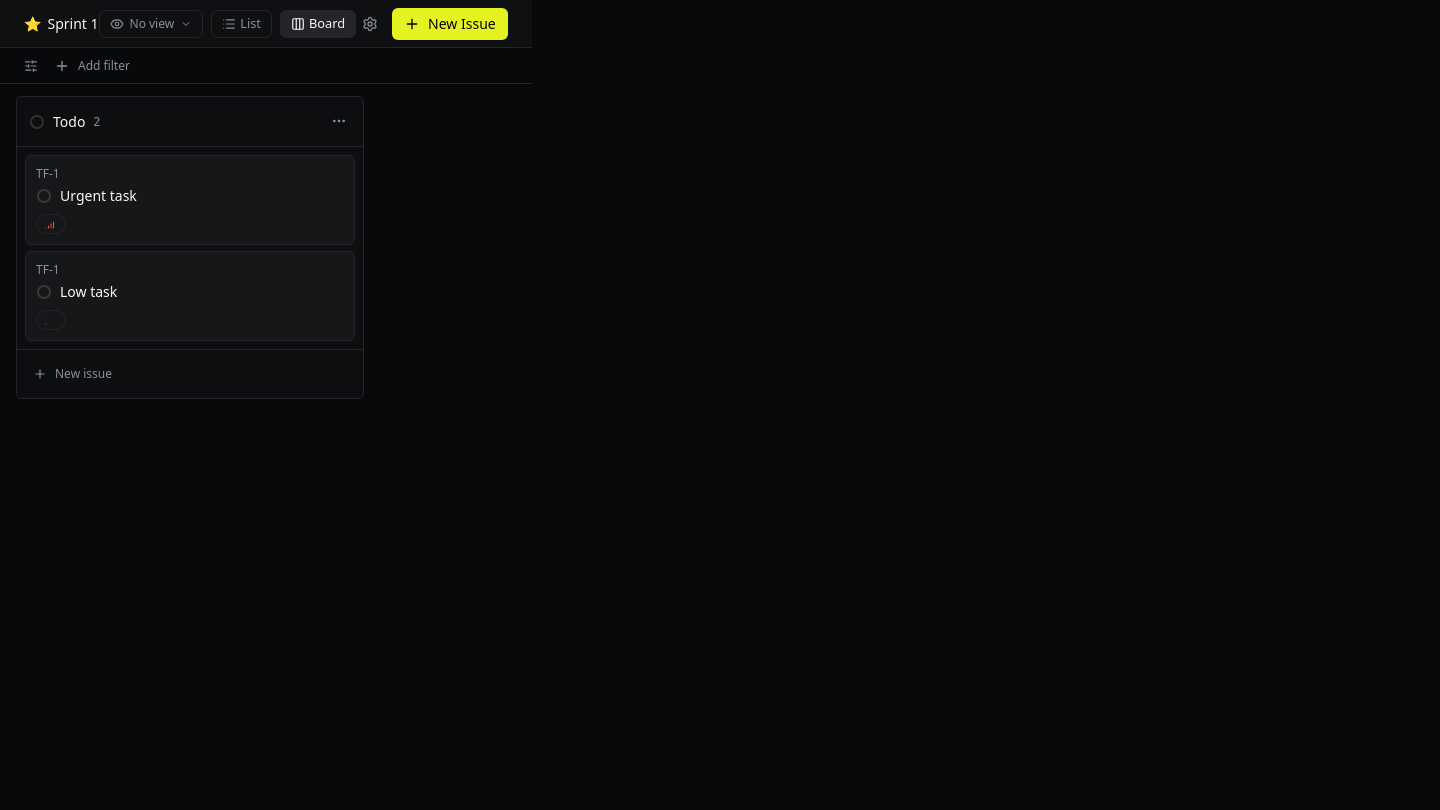
Test: KanbanBoard — save-as-view trigger gating › shows assignee options in the Add filter popover and chips when toggled
The width and height of the screenshot is (1440, 810).
Click the button "Add filter".
click(92, 66)  # box [46,54,138,78]
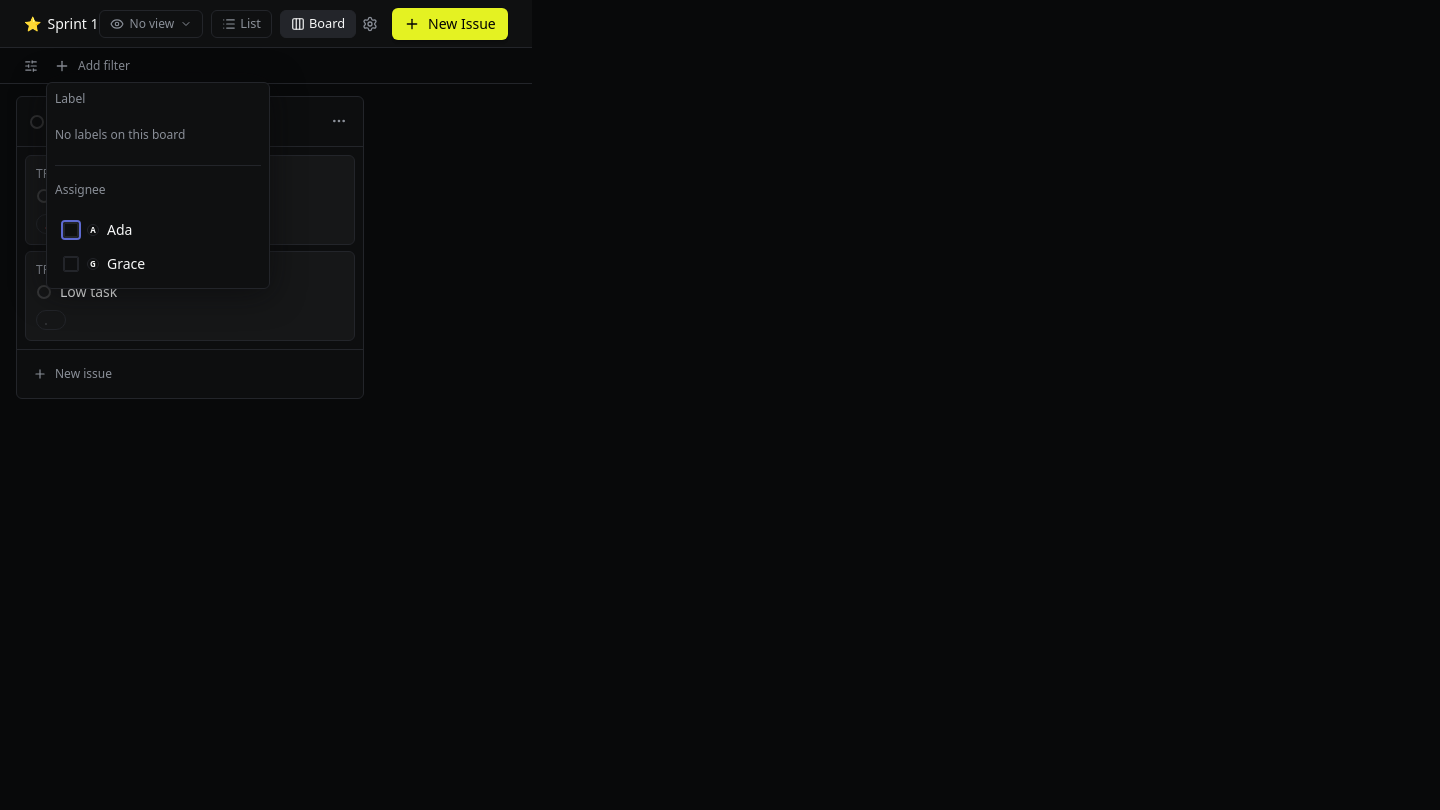
Result: the text "Assignee" is shown at [55,181,106,198]
Click the checkbox named "ada" in the row of "Ada".
click(71, 230)  # box [63,222,79,238]
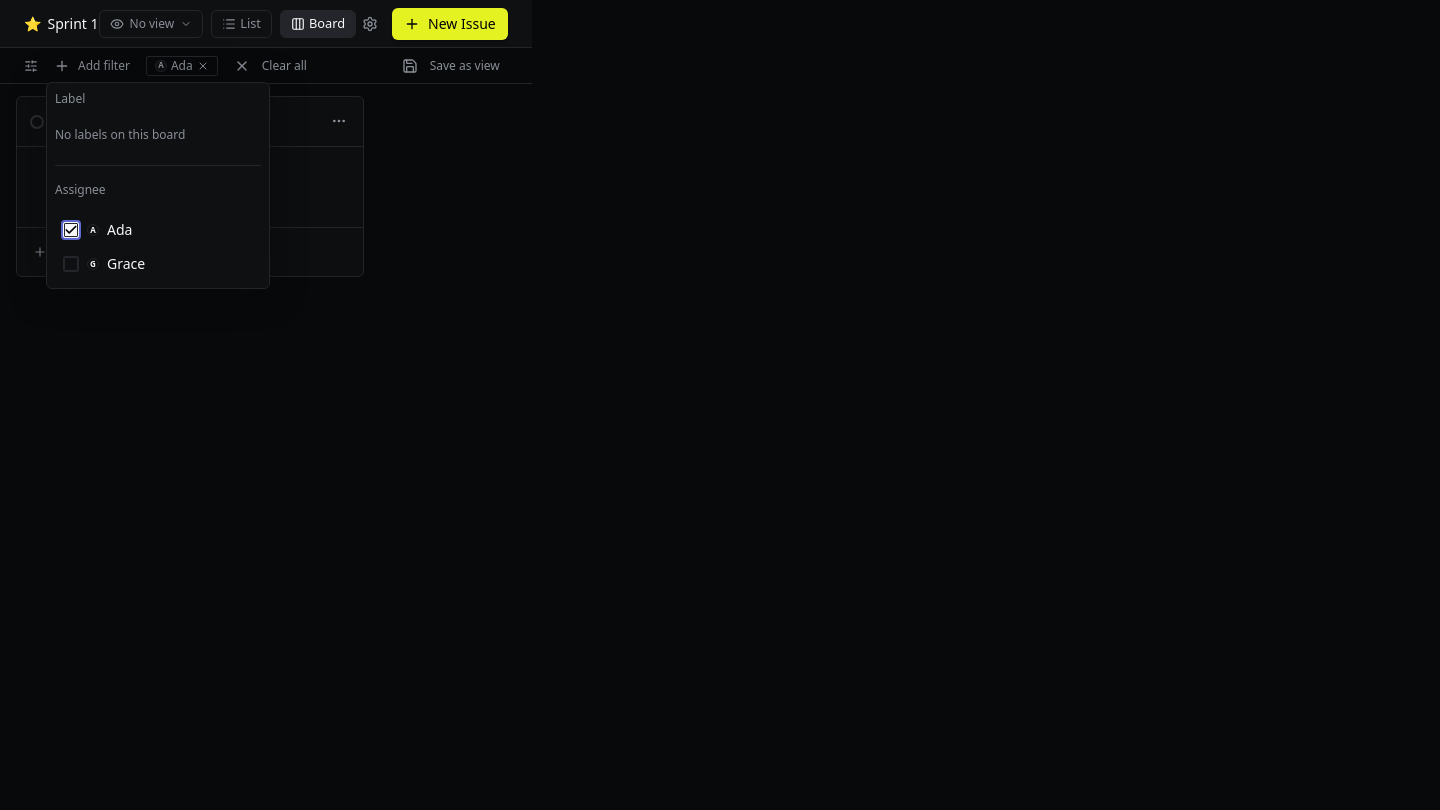
Result: the button named "remove ada filter" is shown at [197,60,209,72]
